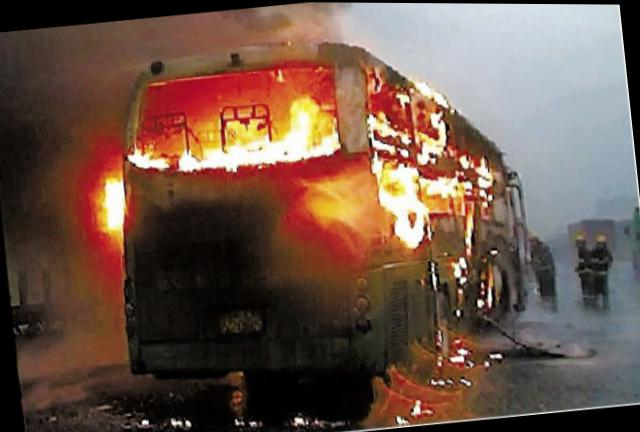fire: (80, 32, 502, 309)
